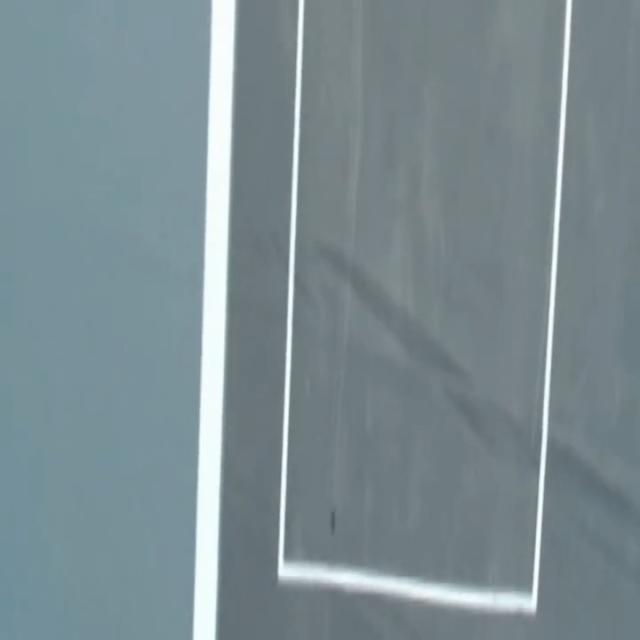left: (193, 0, 235, 639)
